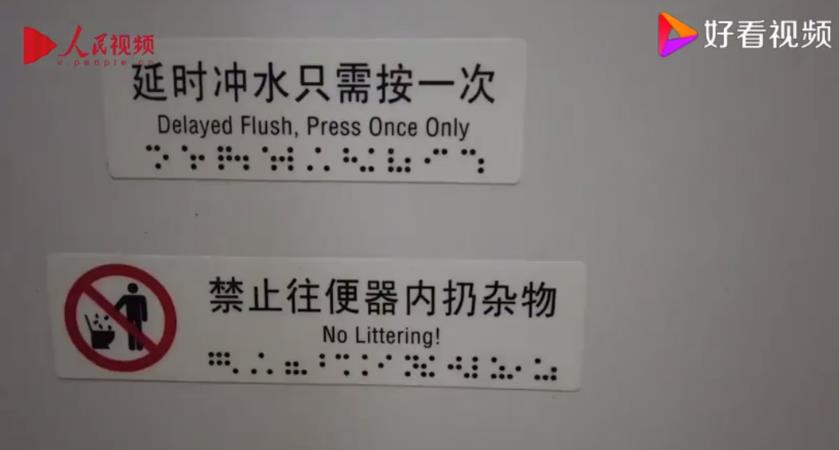Braille: (278, 144, 296, 172), (217, 143, 234, 172), (234, 143, 251, 172), (261, 143, 278, 172), (145, 143, 163, 170), (181, 143, 198, 171), (198, 143, 215, 171), (403, 147, 420, 174), (162, 143, 178, 171), (342, 146, 359, 172), (460, 148, 477, 174), (359, 146, 375, 173), (424, 147, 440, 174), (387, 147, 403, 173), (441, 148, 457, 174), (207, 351, 224, 375), (223, 351, 240, 375), (478, 147, 493, 174), (266, 351, 282, 376), (506, 356, 522, 381), (323, 146, 338, 172), (250, 351, 266, 375), (361, 353, 377, 377), (463, 355, 479, 379), (490, 356, 506, 380), (301, 351, 316, 376), (319, 352, 334, 377), (285, 351, 300, 375), (336, 353, 351, 377), (377, 353, 392, 377), (420, 354, 435, 378), (307, 146, 321, 171), (550, 357, 564, 382), (534, 358, 549, 381), (405, 354, 419, 378), (448, 355, 462, 378)
